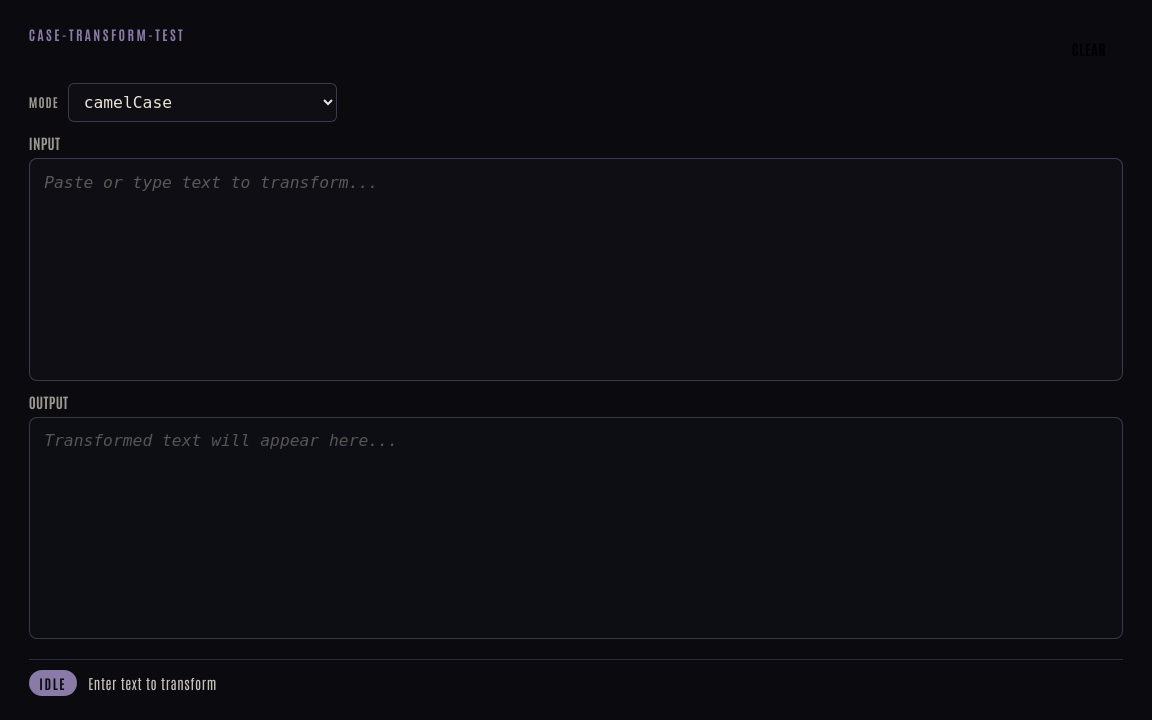
it: CaseTransform › toggles mode when the dropdown changes
This screenshot has width=1152, height=720.
Type "hello_world" into the text box named "Text input for case transformation" at (576, 270), box top-left (29, 158), bottom-right (1123, 381)
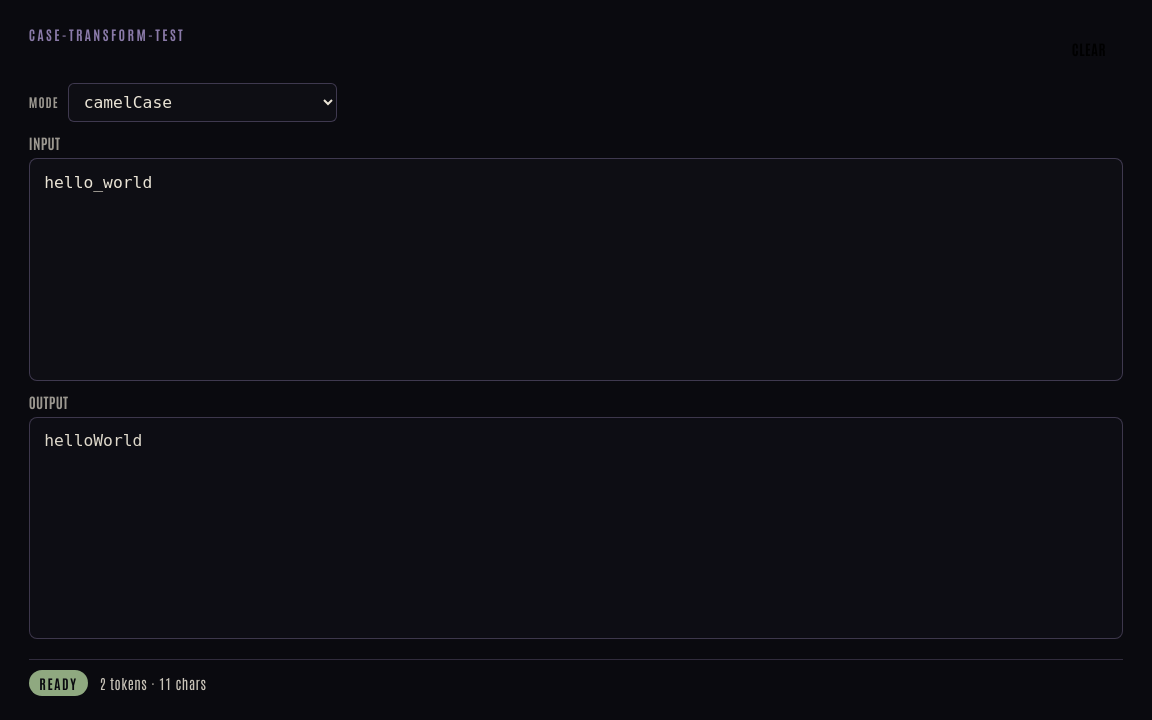
Select "snake_case" in the dropdown named "Case transformation mode" at (202, 102), box top-left (68, 83), bottom-right (337, 122)
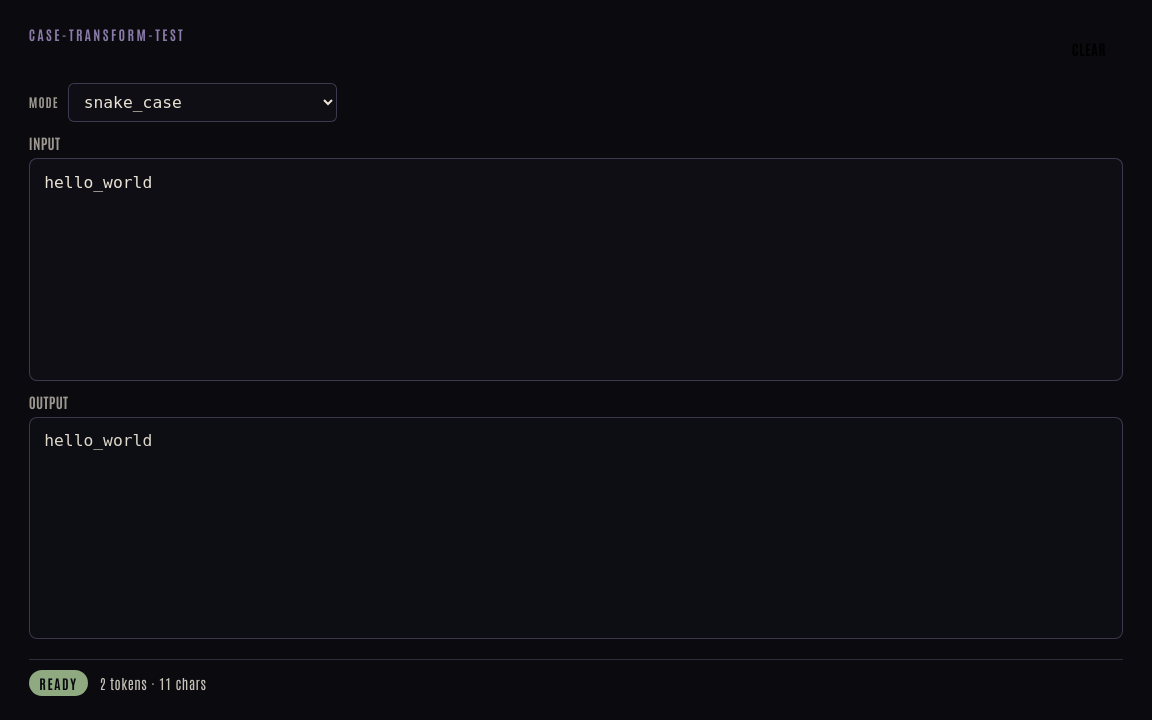
Expected: the text box named "Case-transformed text output" holds "hello_world", top-left (29, 417), bottom-right (1123, 639)
